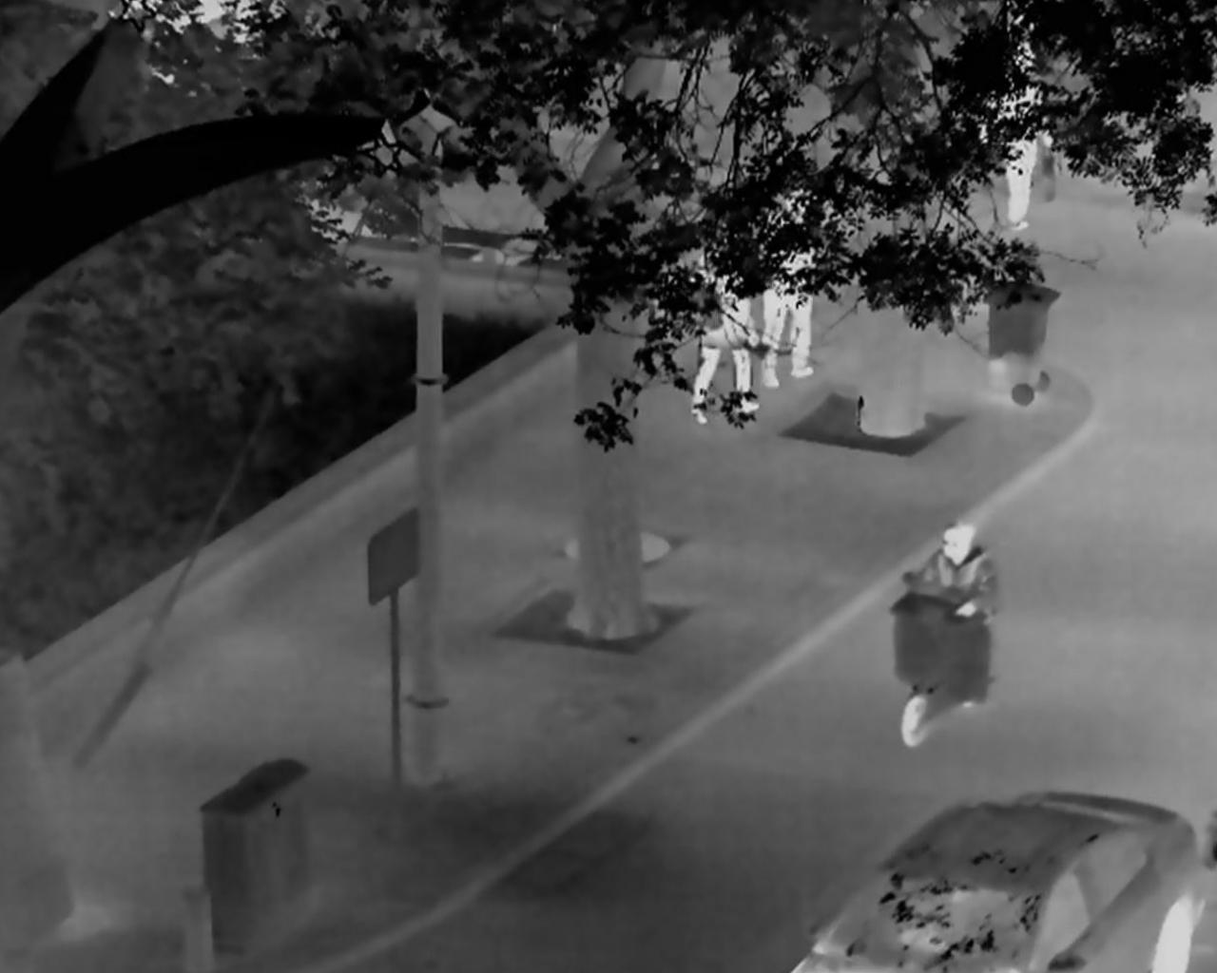person: (899, 521, 997, 708), (976, 43, 1053, 231), (691, 226, 763, 424), (762, 188, 814, 388)
